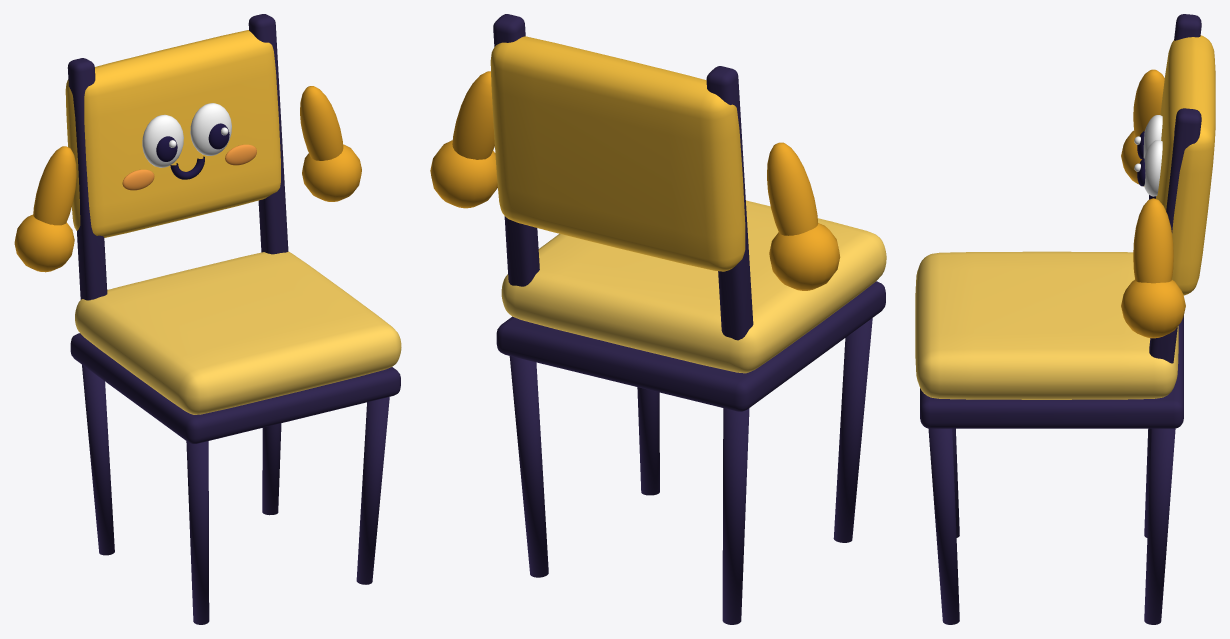
The model's file is chair-back.glb.
3 renders of one model, left to right at view 1: azimuth 30°, elevation 25°; view 2: azimuth 150°, elevation 25°; view 3: azimuth 270°, elevation 25°, orthographic. The views are drawn at different scales.
Parts seen in each view (by area): view 1: Сиденье.001, Спинка.006, Царга.001, Стойка.002, Ножка.027, Ножка.026, Ножка.025, Стойка.003, Ладошка L.008, Рука L.008, Рука R.008, Ладошка R.008 (+3 smaller); view 2: Спинка.006, Сиденье.001, Царга.001, Ножка.028, Ножка.026, Ножка.025, Стойка.002, Ладошка L.008, Рука L.008, Ладошка R.008, Стойка.003, Рука R.008 (+1 smaller); view 3: Сиденье.001, Спинка.006, Царга.001, Ножка.028, Ножка.027, Ладошка R.008, Рука R.008, Стойка.003, Рука L.008, Белок R.008, Ладошка L.008, Стойка.002 (+3 smaller).
Boxes of the visible parts, x1,y1,x2,y2 form: Сиденье.001: (75,251,401,414); Спинка.006: (65,30,280,237); Царга.001: (70,333,400,443); Стойка.002: (67,58,107,300); Ножка.027: (356,397,389,584); Ножка.026: (82,365,114,555); Ножка.025: (186,441,209,624); Стойка.003: (248,14,288,254); Ладошка L.008: (14,214,74,272); Рука L.008: (33,146,76,225); Рука R.008: (300,86,343,160); Ладошка R.008: (302,144,361,201); Спинка.006: (490,36,745,271); Сиденье.001: (501,200,886,373); Царга.001: (496,281,885,411); Ножка.028: (509,356,548,577); Ножка.026: (722,408,749,624); Ножка.025: (833,318,872,542); Стойка.002: (706,66,753,340); Ладошка L.008: (769,223,840,290); Рука L.008: (767,142,817,235); Ладошка R.008: (430,140,497,208); Стойка.003: (493,14,539,286); Рука R.008: (452,71,494,159); Сиденье.001: (915,251,1178,399); Спинка.006: (1155,35,1215,295); Царга.001: (920,316,1183,428); Ножка.028: (1144,428,1175,624); Ножка.027: (928,428,959,624); Ладошка R.008: (1121,280,1185,338); Рука R.008: (1133,198,1173,283); Стойка.003: (1149,108,1201,363); Рука L.008: (1133,69,1164,136); Белок R.008: (1144,140,1162,196); Ладошка L.008: (1121,130,1144,186); Стойка.002: (1174,14,1201,40).
Size of the model in its own units: 0.827 by 1.12 by 0.5924.
